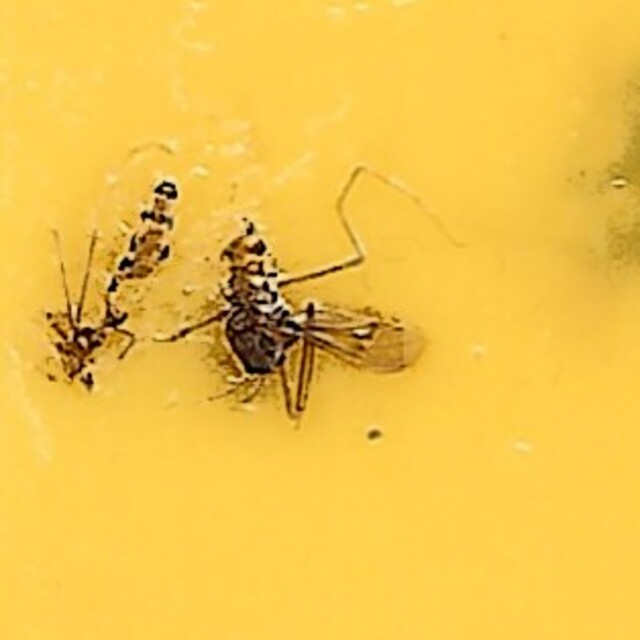Nematocera: (204, 210, 436, 430)
